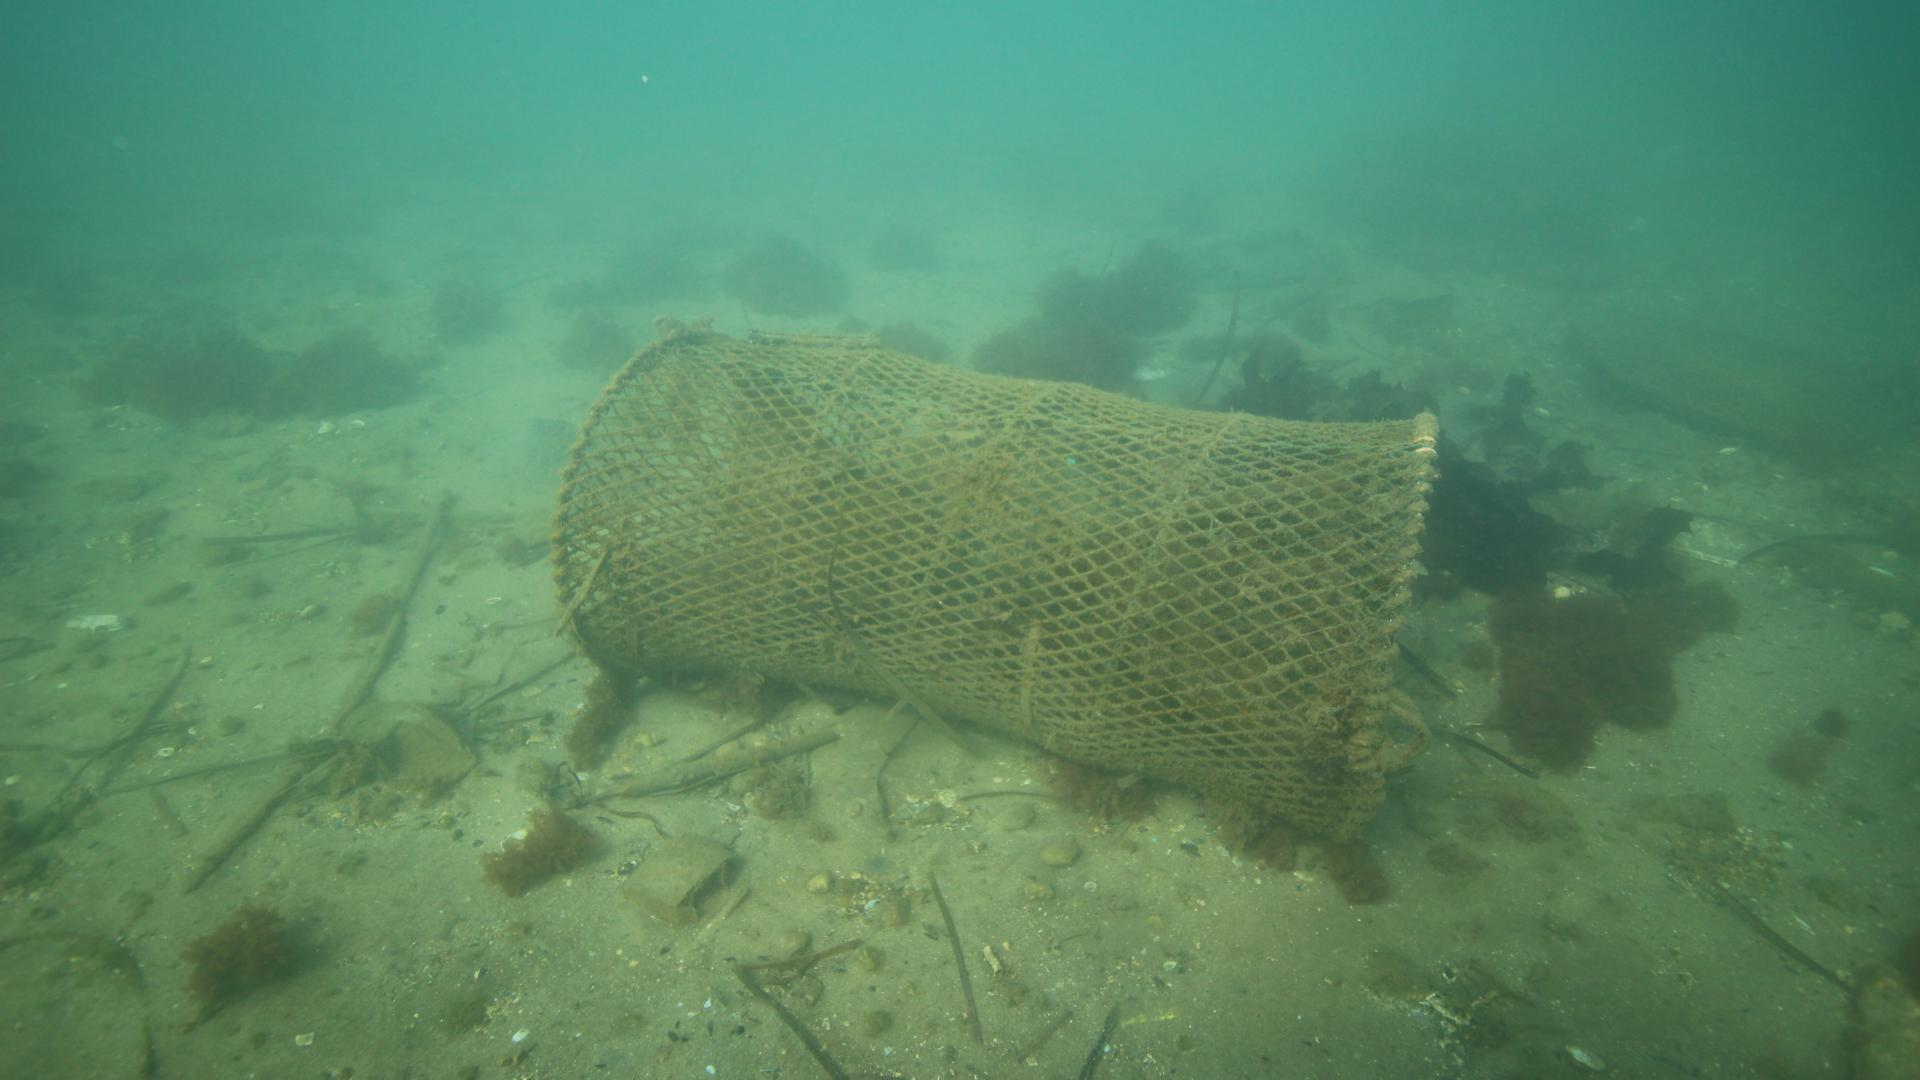spring fish trap: (549, 320, 1437, 843)
